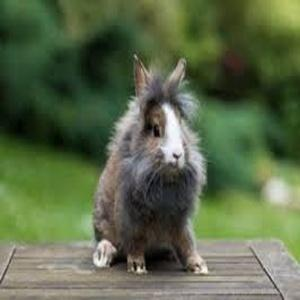rabbit: (92, 55, 208, 275)
